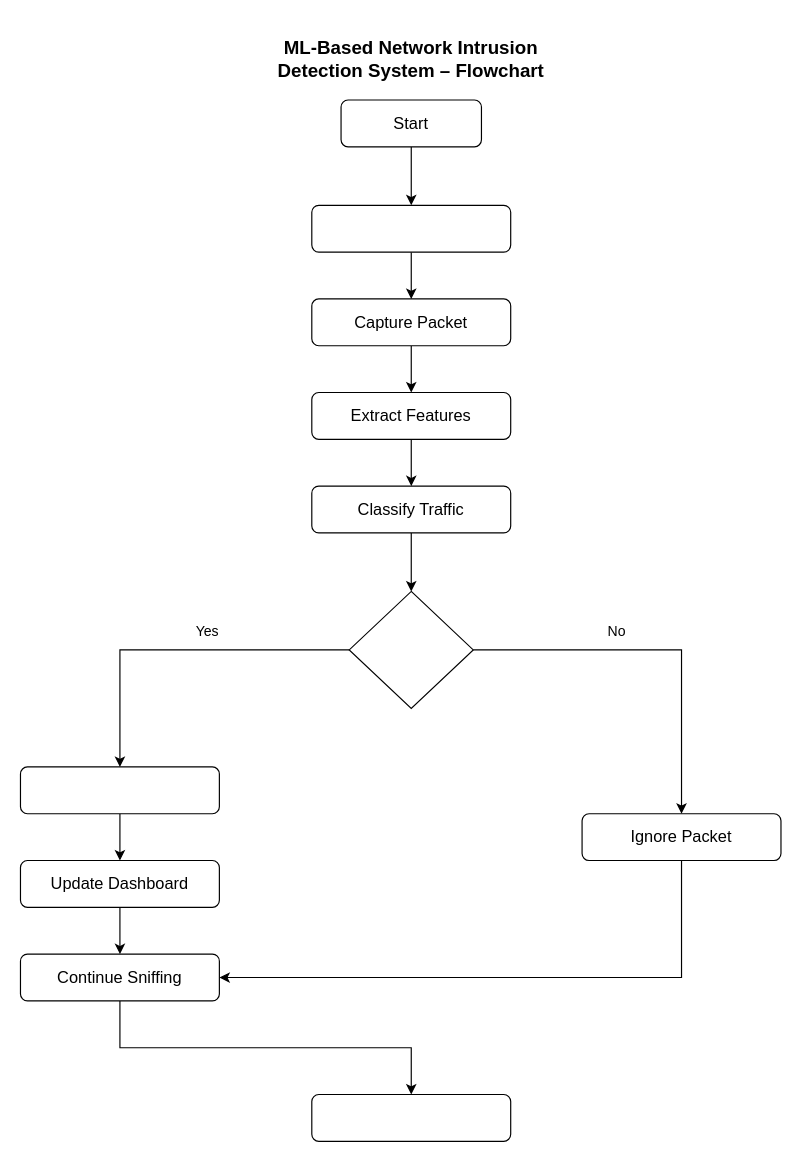
This 801x1162 diagram has some shape labels left out. The shapes that lost their labels are listed below. From the top down, each one's centre as x and y in pixels, then its label:
At (411,228): "Initialize Packet Sniffer".
At (410,649): "Is Anomaly?".
At (119,790): "Save Alert".
At (411,1117): "Stop".
